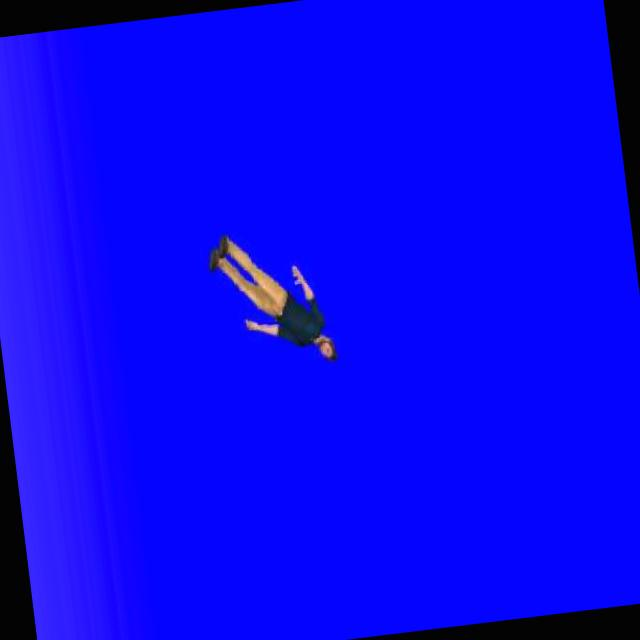Person: (198, 218, 344, 380)
